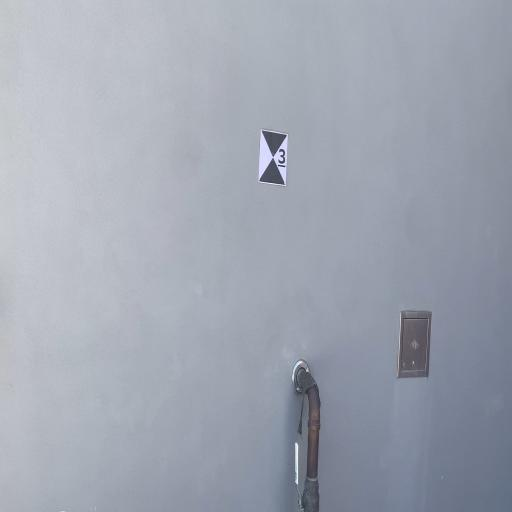target3: (258, 125, 289, 187)
